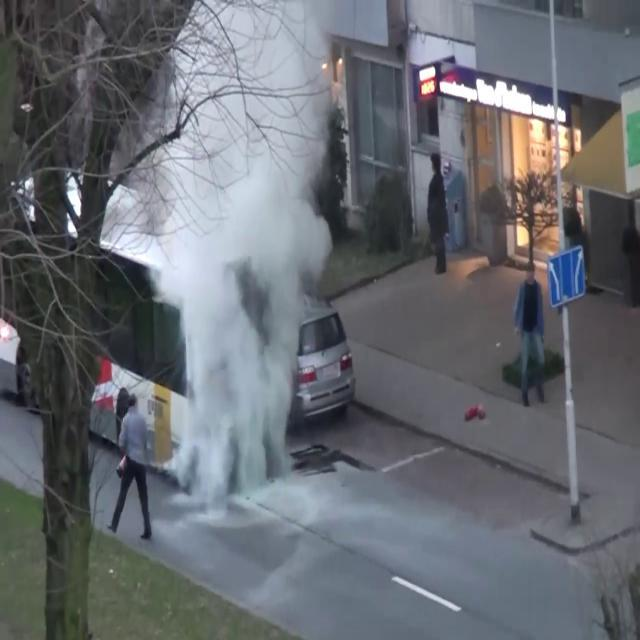Smoke: (146, 3, 340, 527)
